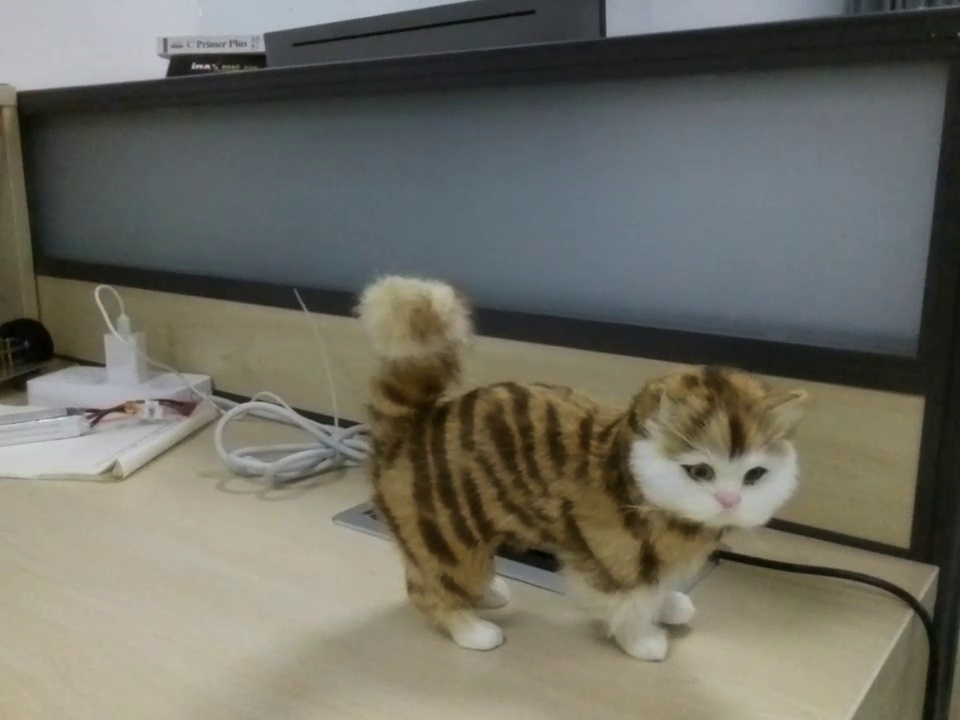cat: (343, 258, 821, 684)
